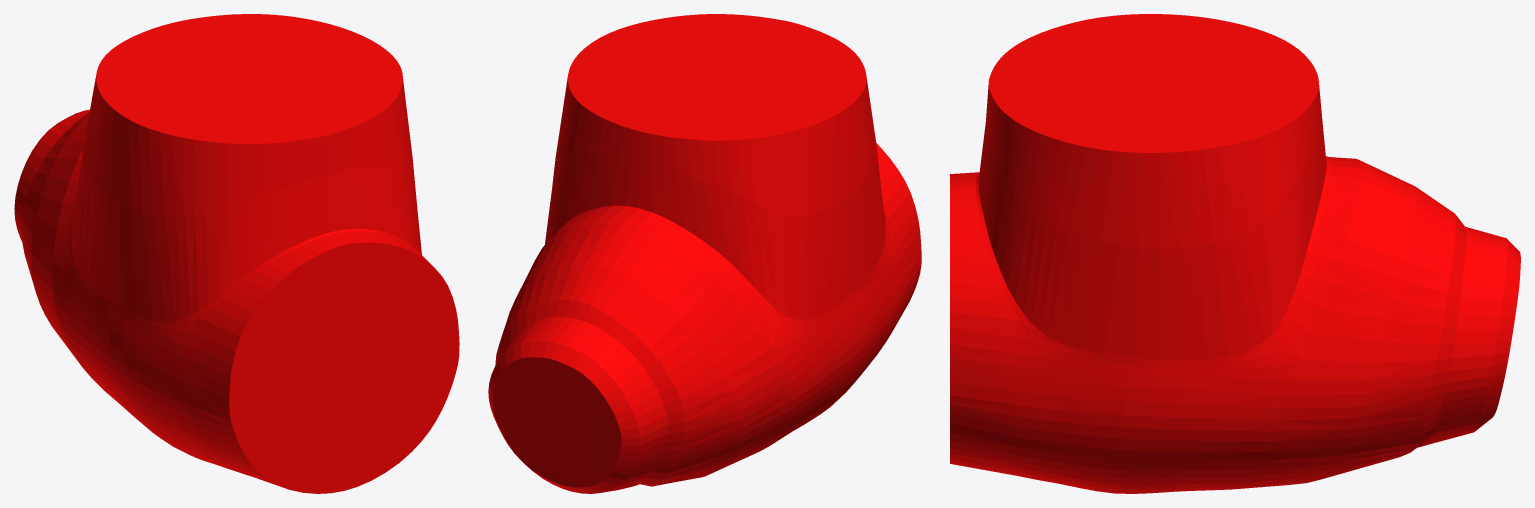
3 views of the same model, side by side, from view 1: azimuth 30°, elevation 25°; view 2: azimuth 150°, elevation 25°; view 3: azimuth 270°, elevation 25° (orthographic). The views are drawn at different scales.
Visible parts, largest first — view 1: MF1509_5_0; view 2: MF1509_5_0; view 3: MF1509_5_0.
Part boxes in pixels (<box>): MF1509_5_0: <box>14,14,459,493</box>; MF1509_5_0: <box>488,14,921,493</box>; MF1509_5_0: <box>950,14,1520,493</box>.
Bounding box in the file's own units: 107 × 174 × 133.
